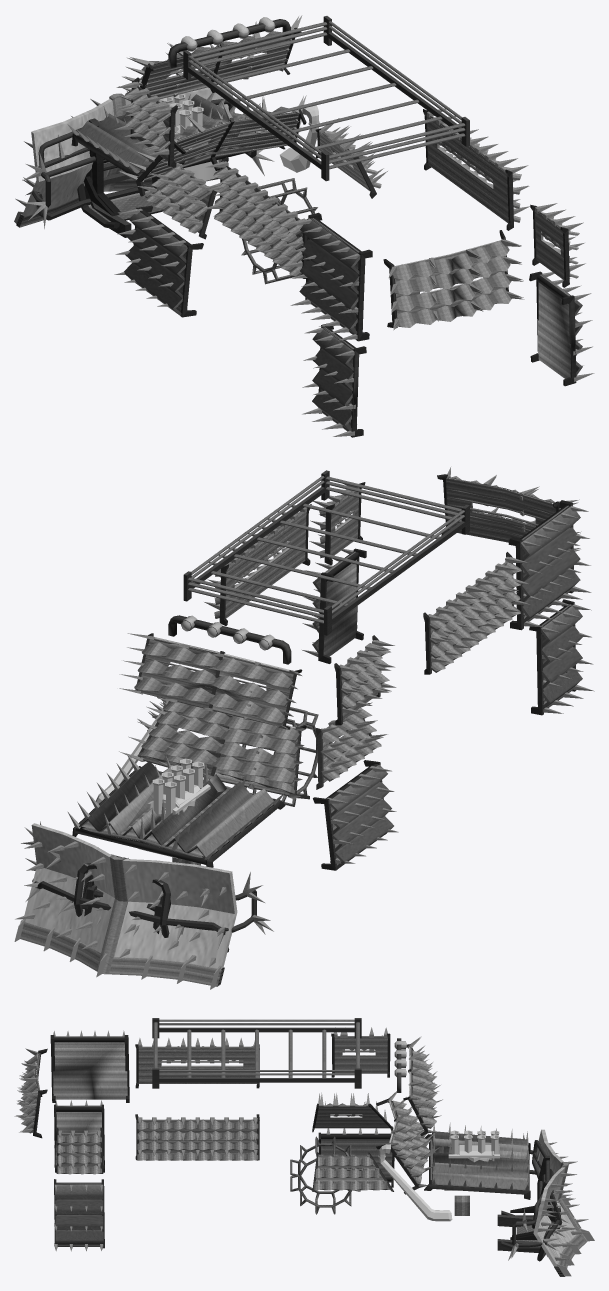
The model's file is DashRoamerArmor.fbx.
The picture shows the model from 3 angles, top to bottom: view 1: azimuth 30°, elevation 25°; view 2: azimuth 150°, elevation 25°; view 3: azimuth 270°, elevation 25°; orthographic projection. The views are drawn at different scales.
Parts seen in each view (by area): view 1: roofrack, windowreinforcedrear, trunkreinforcedrear, plow, windowheavyrear, windowheavyfront, windowlightfront, doorfrontreinforcedleft, doorrearheavyright, windowfrontreinforcedleft, windowlightspikedrear, windowheavyspikedfront (+22 smaller); view 2: plow, windowreinforcedfront, roofrack, windowheavyrear, hoodreinforcedfront, trunkreinforcedrear, plow_spiked, windowheavyfront, hoodreinforcedfrontscoop, windowreinforcedrear, doorfrontreinforcedleft, windowfrontreinforcedleft (+22 smaller); view 3: roofrack, trunkheavyrear, windowheavyrear, windowreinforcedrear, plow, hoodreinforcedfront, windowfrontheavyleft, doorrearreinforcedright, windowreinforcedfront, hoodreinforcedfrontscoop, windowfrontreinforcedright, windowrearreinforcedright (+22 smaller).
Part boxes in pixels (bbox=[...]): roofrack: bbox=[183, 16, 469, 181]; windowreinforcedrear: bbox=[213, 116, 521, 327]; trunkreinforcedrear: bbox=[299, 217, 362, 431]; plow: bbox=[14, 83, 234, 227]; windowheavyrear: bbox=[219, 109, 513, 327]; windowheavyfront: bbox=[135, 27, 306, 196]; windowlightfront: bbox=[144, 32, 298, 180]; doorfrontreinforcedleft: bbox=[124, 209, 190, 315]; doorrearheavyright: bbox=[529, 271, 576, 386]; windowfrontreinforcedleft: bbox=[124, 86, 212, 233]; windowlightspikedrear: bbox=[203, 109, 529, 330]; windowheavyspikedfront: bbox=[119, 15, 306, 196]; plow: bbox=[14, 823, 237, 989]; windowreinforcedfront: bbox=[134, 642, 299, 794]; roofrack: bbox=[183, 470, 469, 635]; windowheavyrear: bbox=[219, 474, 559, 674]; hoodreinforcedfront: bbox=[76, 761, 278, 860]; trunkreinforcedrear: bbox=[520, 505, 582, 709]; plow_spiked: bbox=[15, 825, 234, 967]; windowheavyfront: bbox=[135, 633, 309, 799]; hoodreinforcedfrontscoop: bbox=[75, 761, 278, 864]; windowreinforcedrear: bbox=[214, 476, 555, 672]; doorfrontreinforcedleft: bbox=[326, 763, 393, 869]; windowfrontreinforcedleft: bbox=[320, 646, 390, 781]; roofrack: bbox=[152, 1018, 361, 1088]; trunkheavyrear: bbox=[50, 1035, 129, 1172]; windowheavyrear: bbox=[33, 1044, 259, 1160]; windowreinforcedrear: bbox=[19, 1046, 258, 1160]; plow: bbox=[512, 1129, 594, 1276]; hoodreinforcedfront: bbox=[429, 1131, 529, 1190]; windowfrontheavyleft: bbox=[312, 1033, 393, 1132]; doorrearreinforcedright: bbox=[55, 1182, 103, 1244]; windowreinforcedfront: bbox=[392, 1051, 437, 1185]; hoodreinforcedfrontscoop: bbox=[429, 1131, 528, 1190]; windowfrontreinforcedright: bbox=[314, 1155, 387, 1190]; windowrearreinforcedright: bbox=[57, 1133, 101, 1174].
Bounding box in the file's own units: 290 × 284 × 756.
